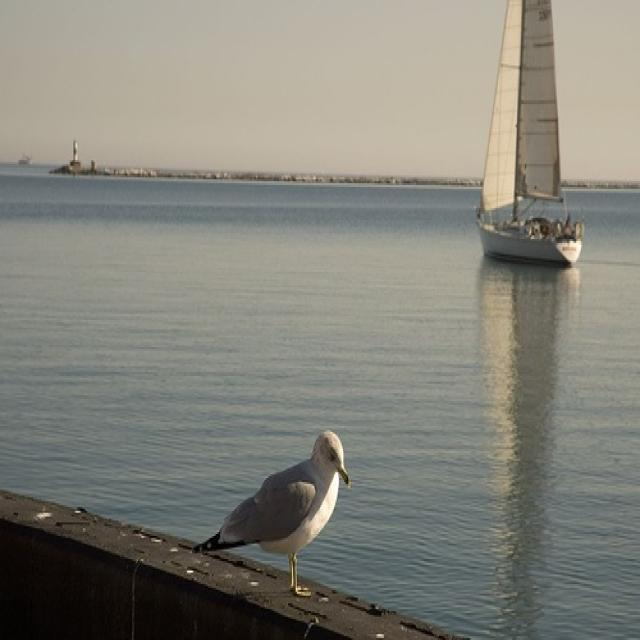bird: (179, 426, 353, 611)
boat: (474, 2, 586, 270)
